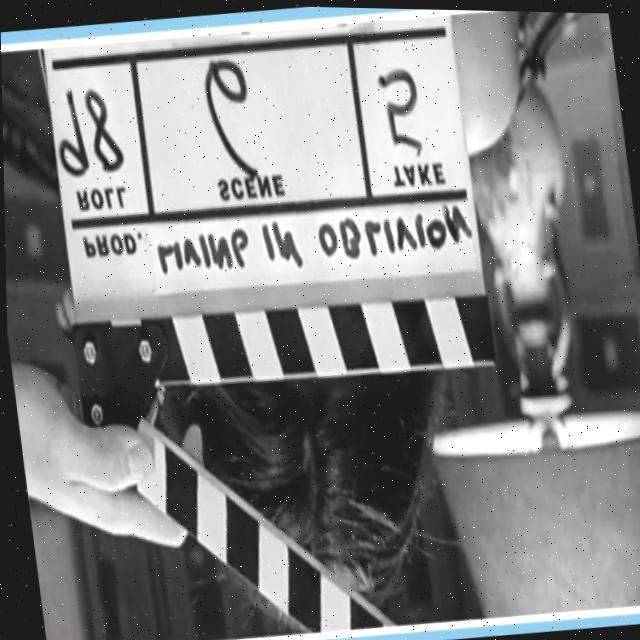Clapperboard: (39, 1, 534, 640)
